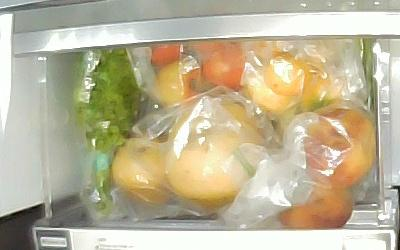peach_vinyl: (303, 104, 374, 187), (277, 185, 353, 229)
pear_vinyl: (167, 101, 264, 206), (111, 137, 169, 206)
tangerine_vinyl: (262, 53, 312, 95), (247, 70, 294, 113), (301, 74, 342, 113), (250, 41, 283, 62)
tomato_vinyl: (199, 40, 245, 89), (155, 55, 200, 105), (202, 42, 244, 90), (149, 43, 182, 65)
